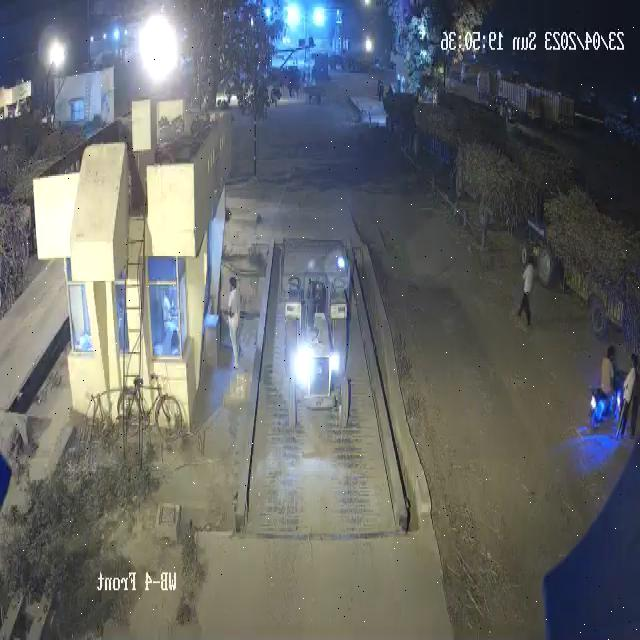Tratores - v5 YOLO V8L 2024-11-13: (280, 262, 352, 446), (516, 210, 560, 280)
